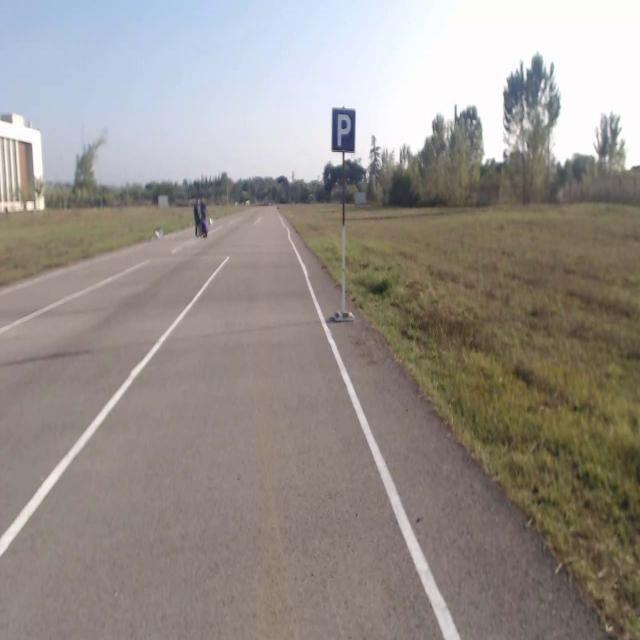park: (332, 108, 354, 152)
